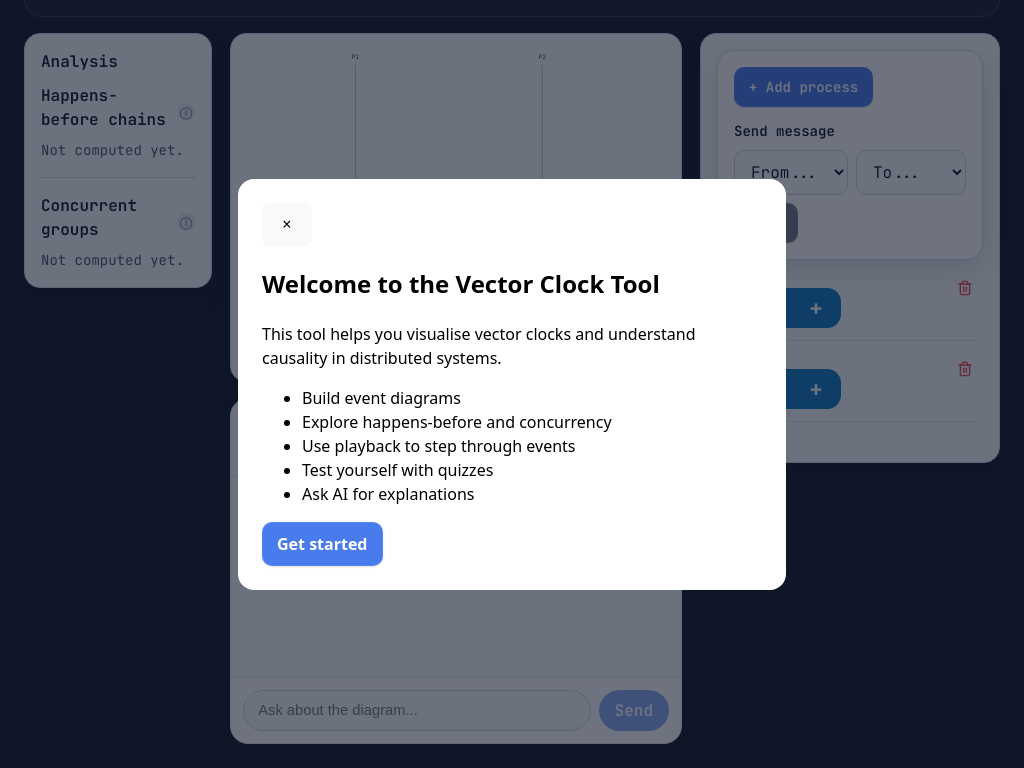
Test case: App › closes welcome modal when get started is clicked
The width and height of the screenshot is (1024, 768).
(page scrolled)
Click the button "Get started": (322, 544) [262,522,382,566]
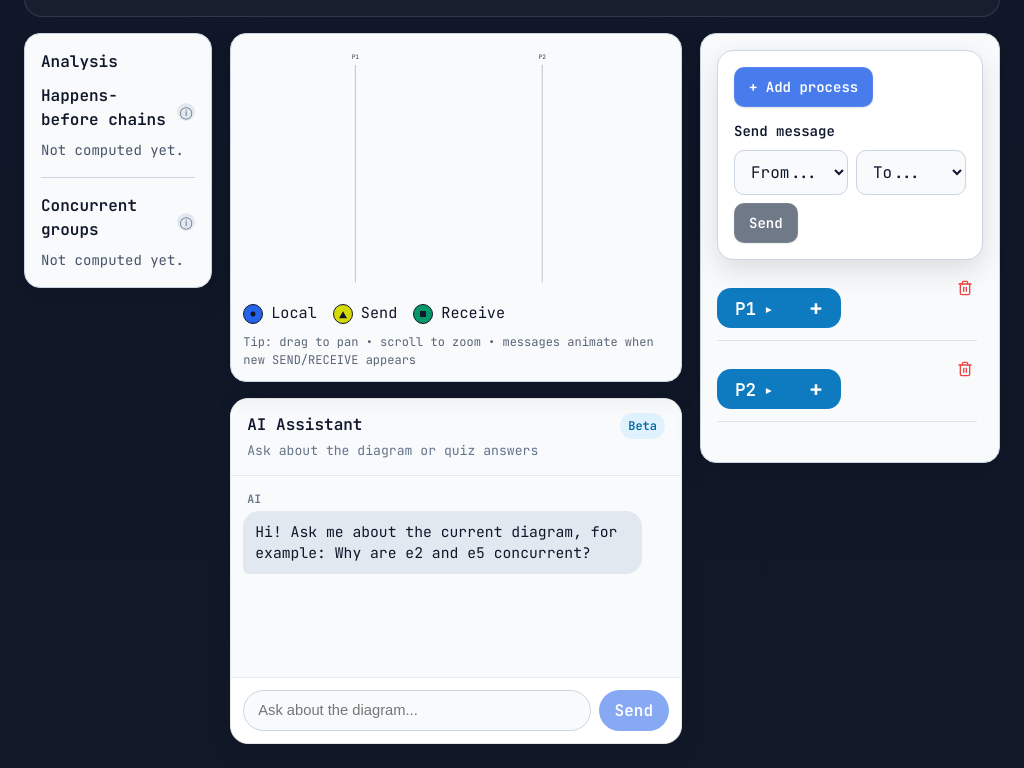
Expected: the heading "Welcome to the Vector Clock Tool" is gone
